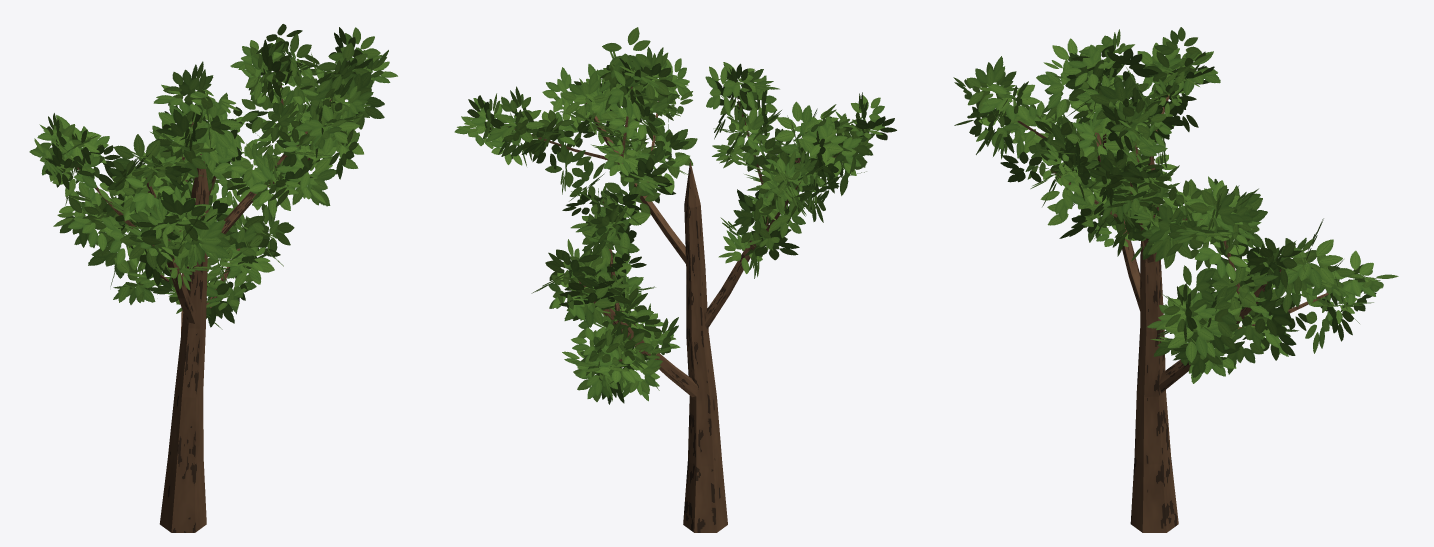
The model's file is old-oak.obj.
3 renders of one model, left to right at view 1: azimuth 30°, elevation 25°; view 2: azimuth 150°, elevation 25°; view 3: azimuth 270°, elevation 25°, orthographic. The views are drawn at different scales.
Size of the model in its own units: 12.68 by 15.19 by 13.01.
2 materials, 2 textured.
